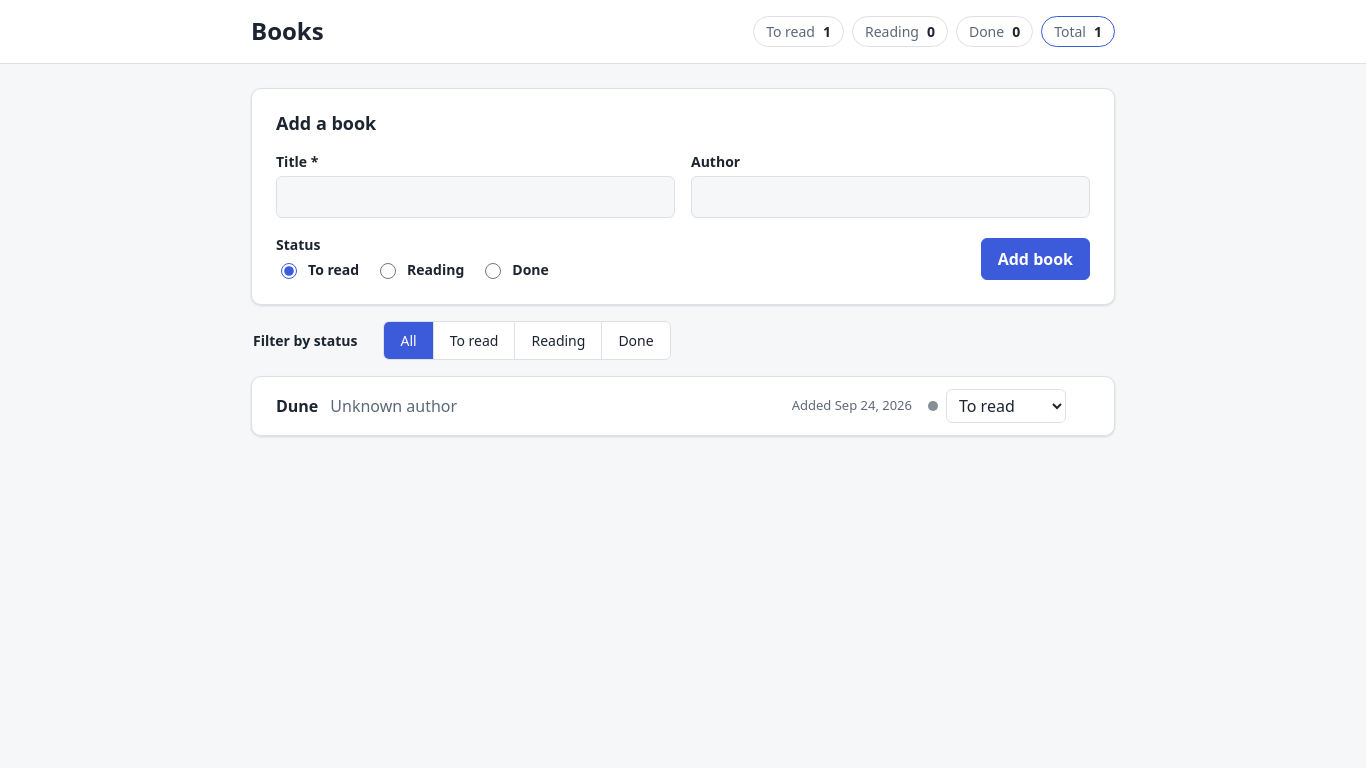
Changing a book status › server 404 → rolls back the row and shows an error toast
The image size is (1366, 768).
Select "Done" in the dropdown named "Status for Dune" at (1006, 406), box [946,389,1066,423]
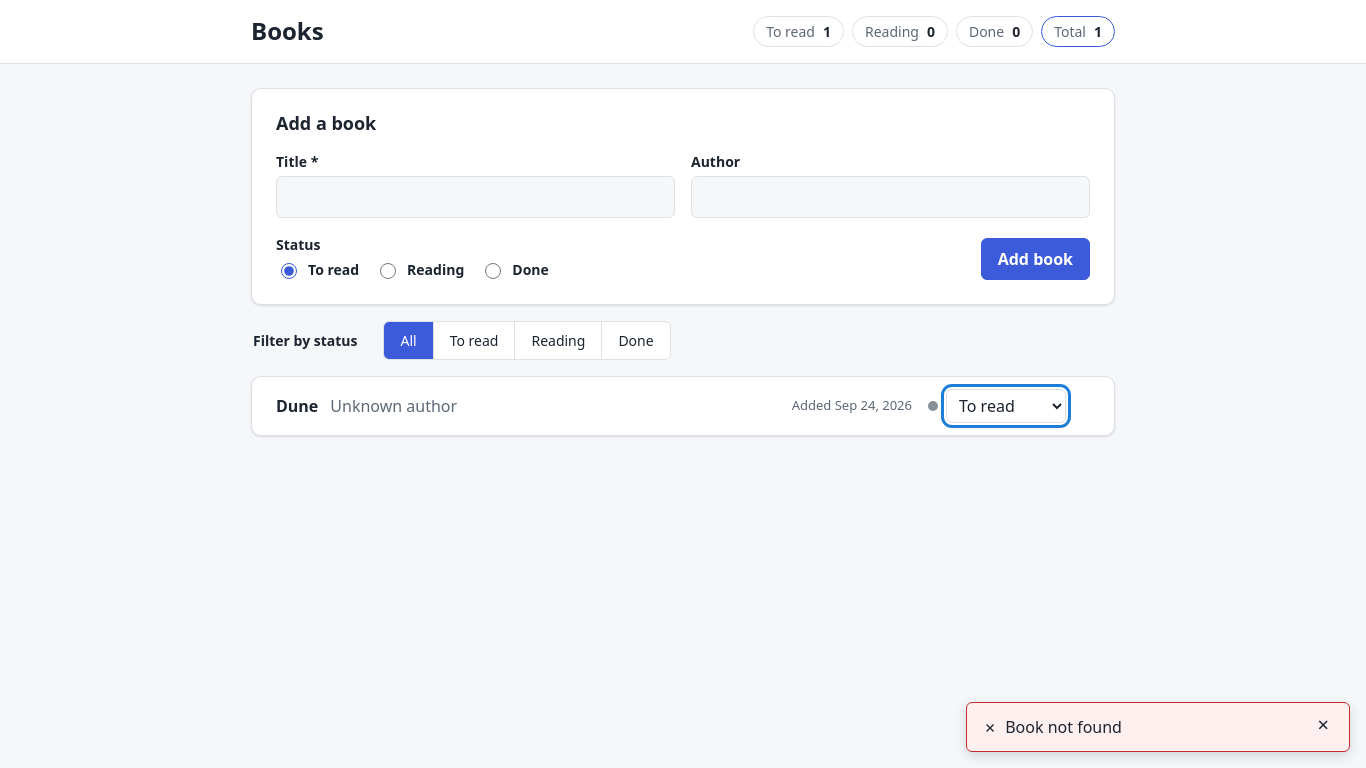
Expected: the 2nd text with test id "stat-done" reads "0", [1012,22,1020,41]
Now the text "Book not found" is shown, box [1005,716,1122,738]
